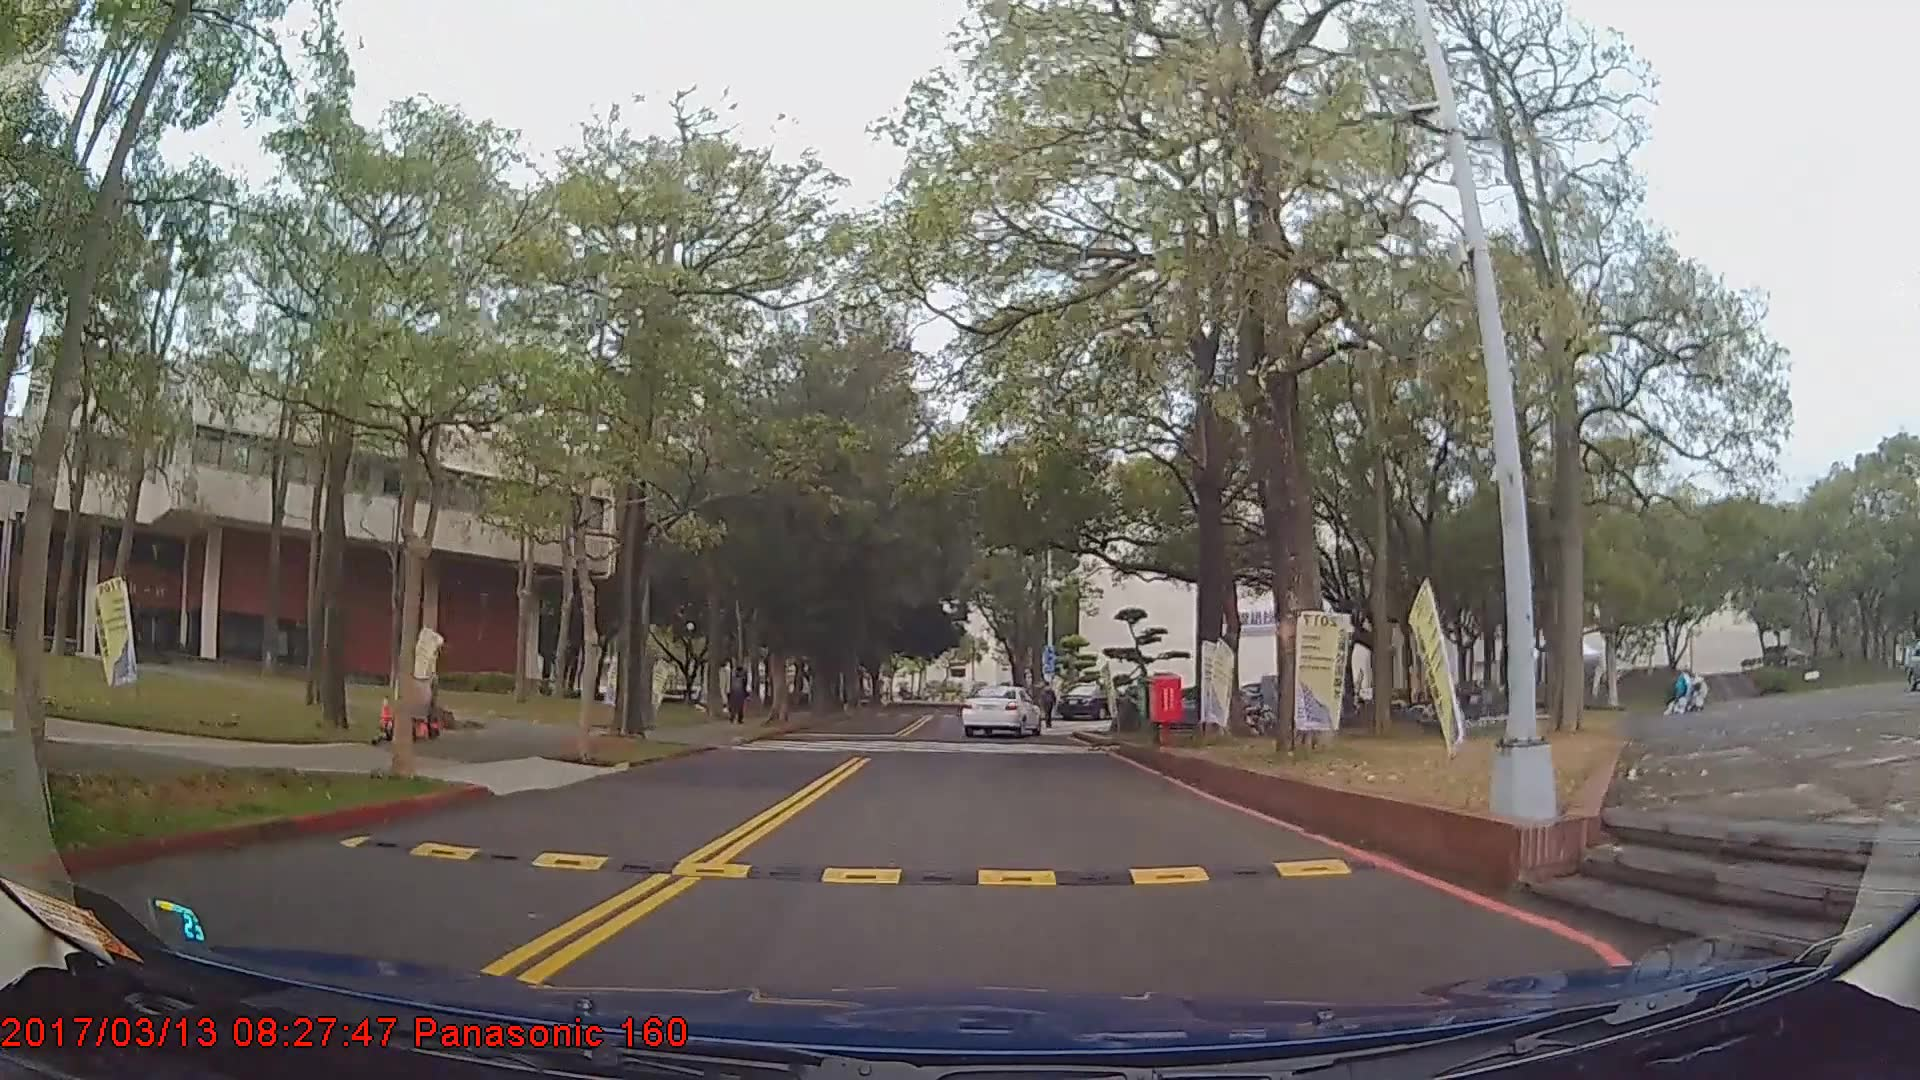pedestrian: (725, 660, 756, 731)
vehicle: (961, 683, 1042, 739), (1058, 684, 1122, 720)
